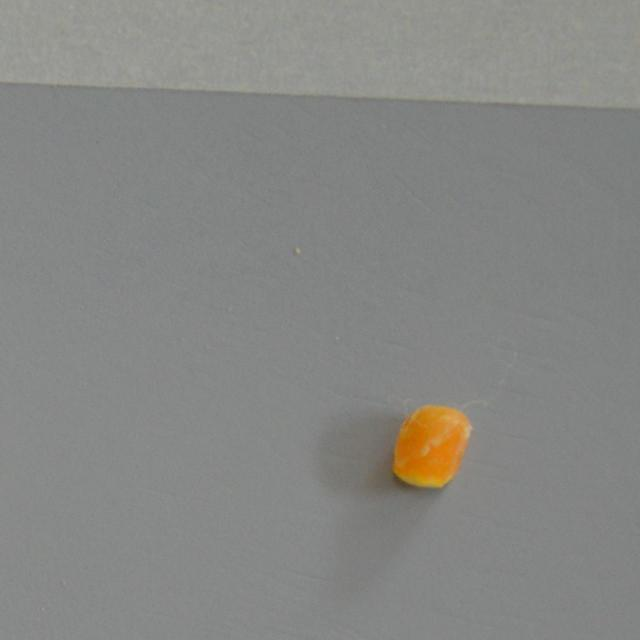pelicula: (390, 400, 476, 494)
